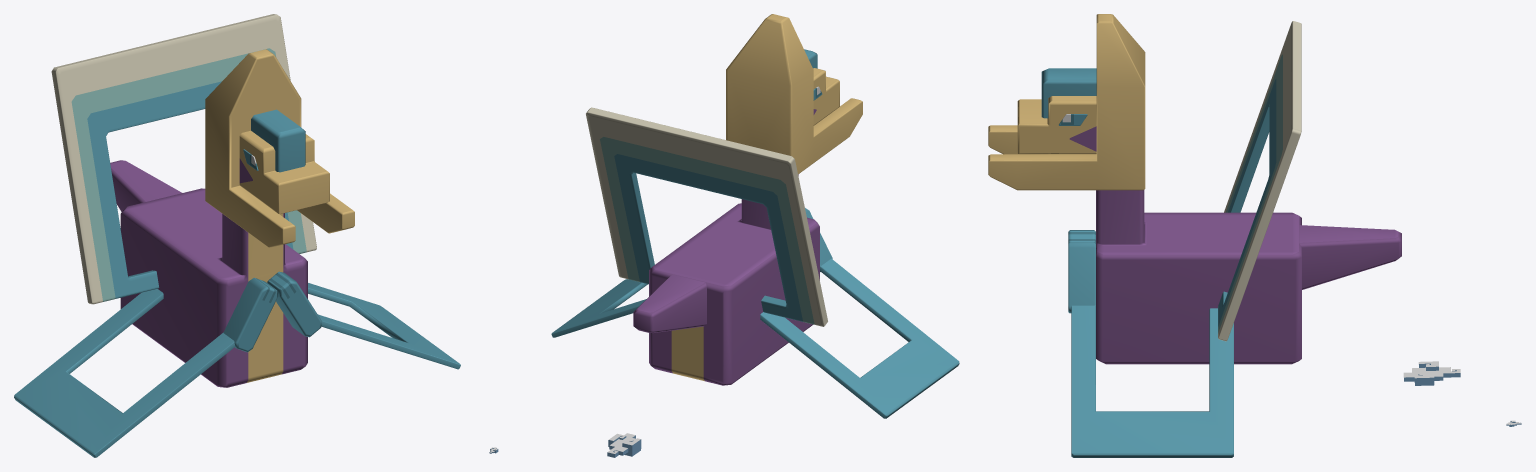
The picture shows the model from 3 angles, left to right: view 1: azimuth 30°, elevation 25°; view 2: azimuth 150°, elevation 25°; view 3: azimuth 270°, elevation 25°; orthographic projection. The views are drawn at different scales.
Parts seen in each view (by area): view 1: model; view 2: model, E_Pokemon_Cloud3; view 3: model, E_Pokemon_Cloud3.
Part boxes in pixels (x1,y1,x2,y2): model: [14, 14, 460, 457]; model: [551, 14, 959, 418]; E_Pokemon_Cloud3: [607, 433, 641, 457]; model: [988, 14, 1401, 457]; E_Pokemon_Cloud3: [1403, 361, 1460, 385].
Size of the model in its own units: 4.32 by 4.01 by 5.39.
